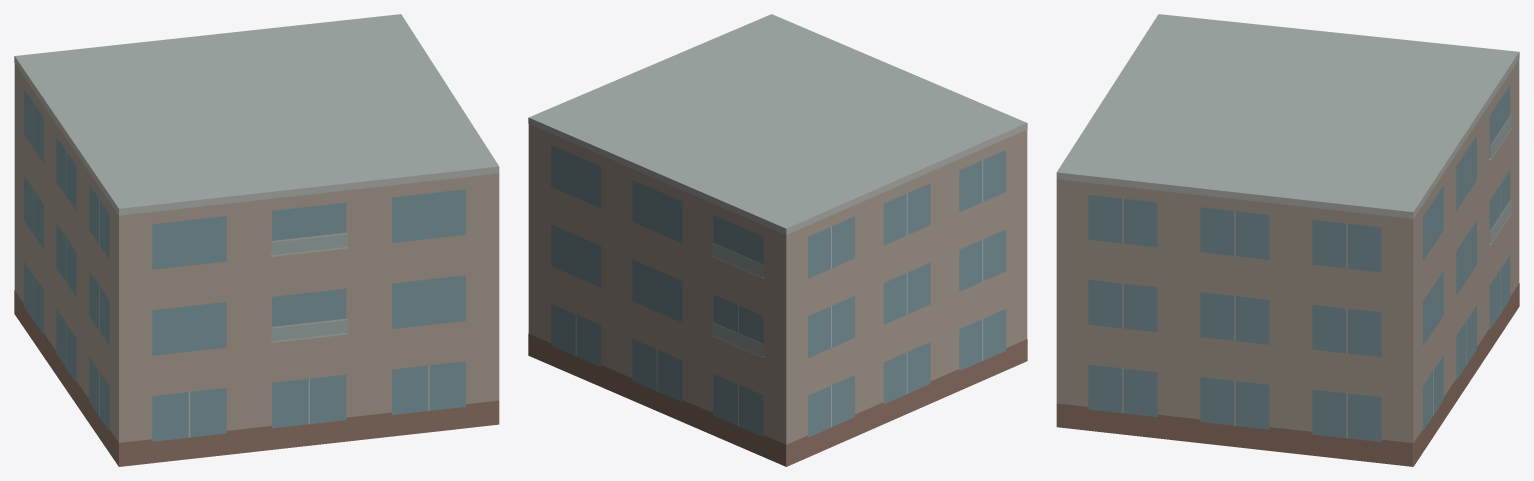
The model's file is survey-upis-32687232.glb.
The picture shows the model from 3 angles, left to right: view 1: azimuth 30°, elevation 25°; view 2: azimuth 150°, elevation 25°; view 3: azimuth 270°, elevation 25°; orthographic projection. The views are drawn at different scales.
Parts seen in each view (by area): view 1: survey-upis-32687232.tmp; view 2: survey-upis-32687232.tmp; view 3: survey-upis-32687232.tmp.
Boxes of the visible parts, x1=… form: survey-upis-32687232.tmp: x1=14, y1=14, x2=499, y2=466; survey-upis-32687232.tmp: x1=528, y1=14, x2=1027, y2=466; survey-upis-32687232.tmp: x1=1056, y1=14, x2=1519, y2=466.
Size of the model in its own units: 15.28 by 9.15 by 15.08.
